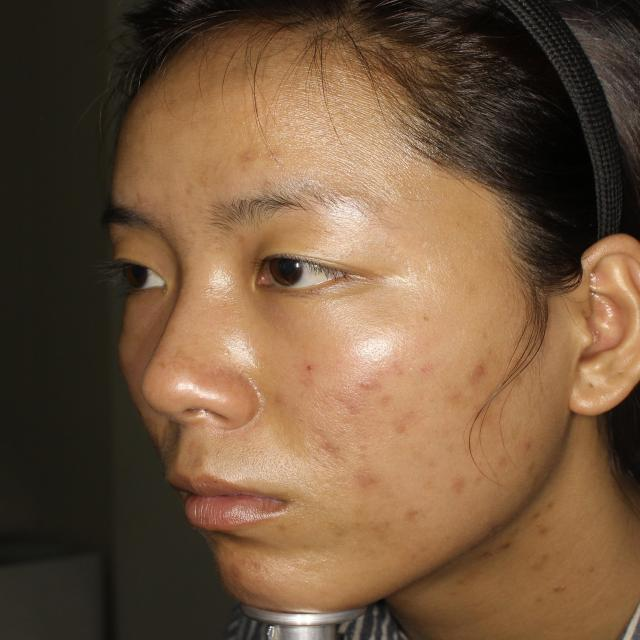pustule: (457, 353, 505, 381), (508, 434, 546, 462), (440, 384, 478, 411), (445, 471, 471, 505), (350, 465, 385, 489), (312, 429, 342, 455), (331, 401, 363, 424), (387, 408, 410, 437), (355, 374, 379, 397), (264, 391, 288, 403), (338, 438, 352, 449)
